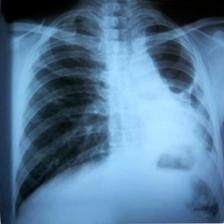tuberculosis: (11, 6, 221, 220)
